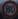Speed Limit -80-: (0, 0, 17, 18)
